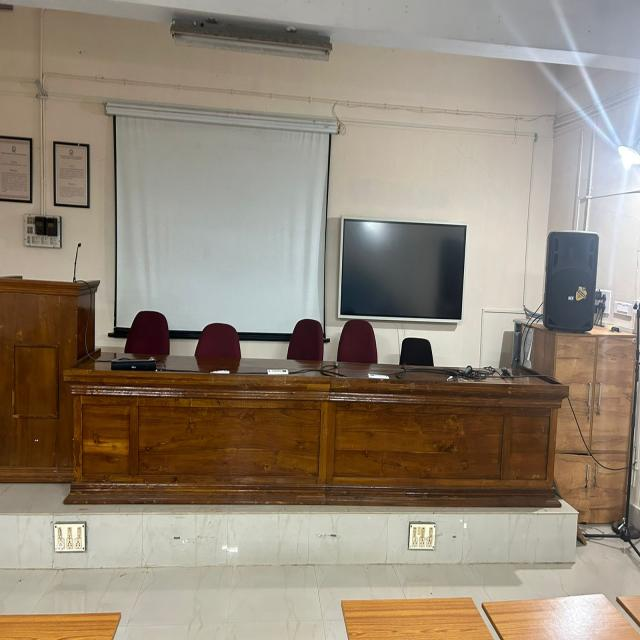Table ahead at: (72, 384, 556, 502), (2, 278, 76, 480)
chair ahead at: (122, 310, 177, 360), (283, 318, 331, 368), (195, 324, 241, 368)
